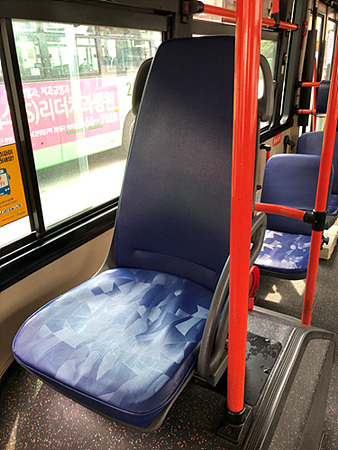seat: (16, 42, 234, 419)
